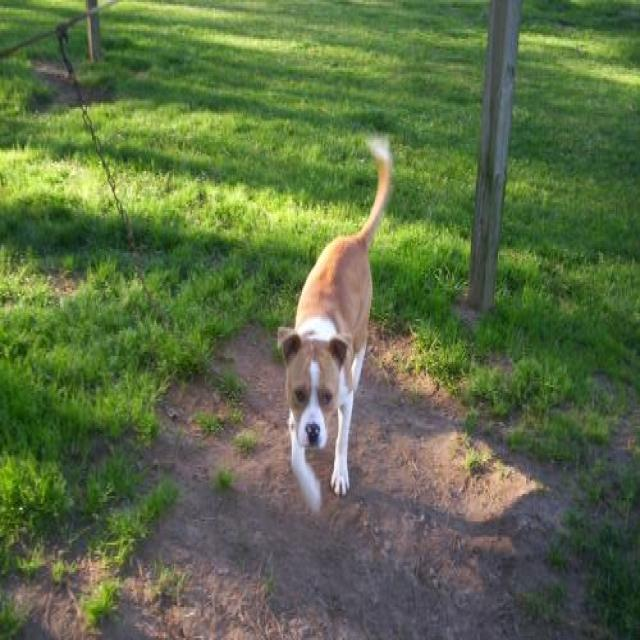dogs: (277, 138, 393, 513)
